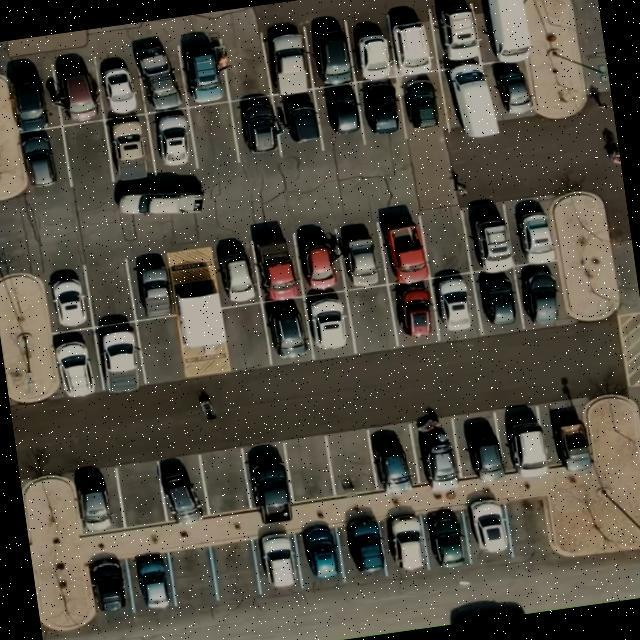space-empty: (419, 204, 472, 276), (283, 434, 336, 506), (218, 28, 270, 101), (62, 120, 113, 194), (324, 430, 379, 498), (84, 257, 137, 327), (346, 283, 398, 353), (114, 460, 166, 530), (220, 303, 272, 372), (190, 101, 238, 174), (198, 446, 246, 518), (210, 536, 260, 605), (136, 316, 186, 384), (507, 498, 554, 567), (170, 544, 218, 609)
space-occupied: (440, 60, 502, 142), (296, 218, 353, 296), (133, 38, 190, 114), (260, 20, 317, 96), (410, 416, 464, 493), (92, 321, 150, 392), (6, 62, 64, 133), (92, 44, 145, 121), (240, 442, 295, 516), (333, 218, 388, 290), (431, 0, 490, 67), (178, 36, 232, 108), (212, 236, 266, 308), (42, 260, 95, 333), (475, 0, 535, 64), (498, 406, 551, 478), (429, 272, 483, 342), (378, 212, 432, 282), (388, 5, 442, 75), (345, 14, 399, 84), (51, 56, 104, 127), (388, 278, 441, 348), (146, 106, 200, 174), (70, 466, 121, 538), (462, 496, 516, 564), (367, 422, 418, 494), (52, 328, 104, 398), (462, 203, 514, 273), (104, 114, 156, 184), (156, 455, 208, 525), (302, 291, 356, 358), (16, 128, 70, 194), (420, 504, 470, 574), (380, 508, 430, 577), (400, 71, 450, 140), (357, 77, 407, 146), (125, 550, 177, 616), (297, 521, 346, 591), (457, 414, 505, 484), (341, 511, 388, 582), (515, 262, 564, 330), (260, 298, 310, 364), (316, 82, 366, 148), (126, 254, 176, 320), (255, 528, 303, 596), (508, 196, 556, 264), (232, 95, 282, 160), (472, 270, 522, 334), (309, 20, 354, 90), (261, 234, 307, 302), (274, 90, 321, 153), (86, 556, 132, 617), (547, 399, 587, 466), (484, 64, 526, 122)
